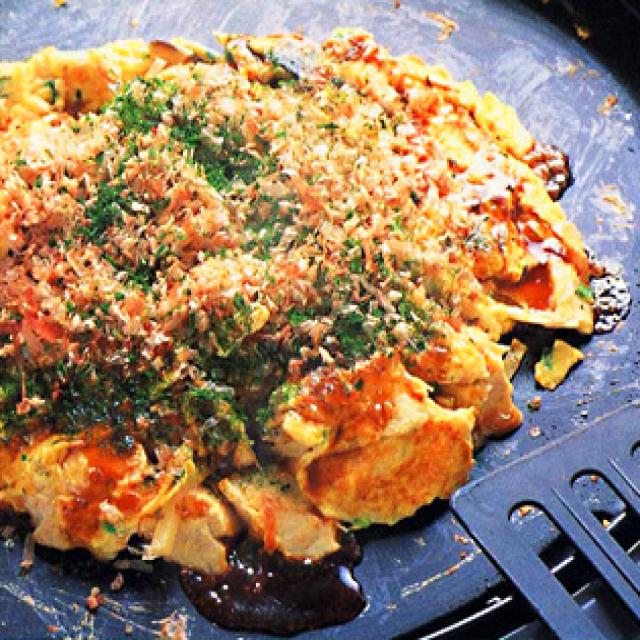蛋糕甜品: (0, 29, 585, 570)
